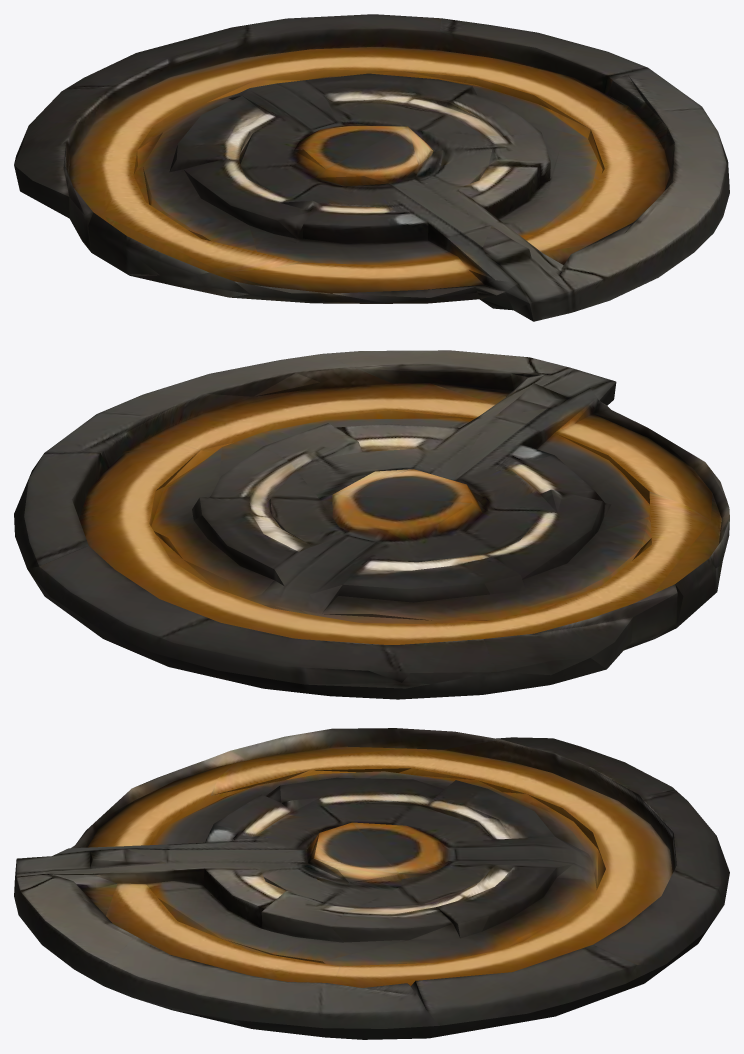
Rendered from m2MagnetPad.glb.
3 renders of one model, top to bottom at view 1: azimuth 30°, elevation 25°; view 2: azimuth 150°, elevation 25°; view 3: azimuth 270°, elevation 25°, orthographic. The views are drawn at different scales.
Visible parts, largest first — view 1: model; view 2: model; view 3: model.
Boxes of the visible parts, x1,y1,x2,y2 form: model: (14, 14, 729, 321); model: (14, 350, 729, 699); model: (14, 728, 729, 1039).
Bounding box in the file's own units: 1.79 × 0.1705 × 1.9.
Materials: 1 (1 with a texture image).
